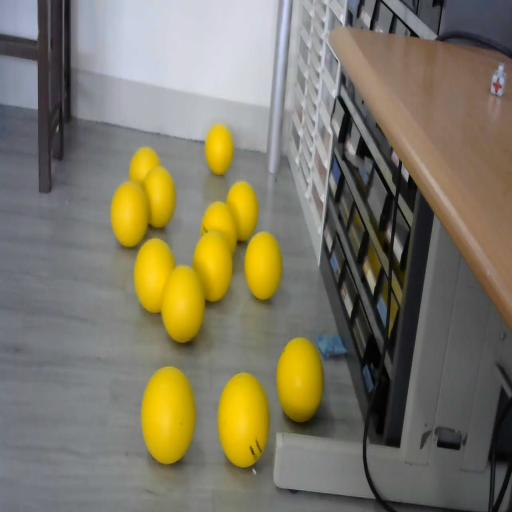FUEL: (140, 364, 196, 464), (216, 371, 270, 467), (276, 334, 324, 422), (192, 230, 234, 302), (134, 237, 174, 312), (244, 230, 283, 300), (110, 180, 149, 246), (144, 165, 176, 228), (226, 181, 259, 241), (204, 123, 234, 175)
